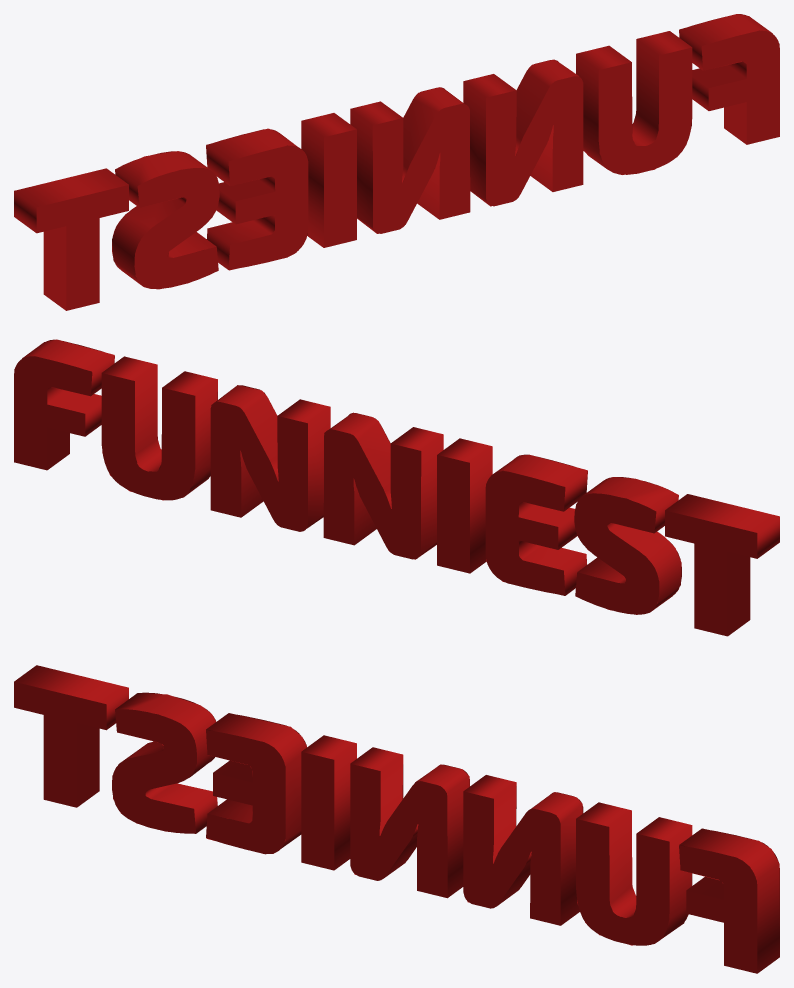
The model's file is funniest.fbx.
3 views of the same model, one above another, from view 1: azimuth 30°, elevation 25°; view 2: azimuth 150°, elevation 25°; view 3: azimuth 330°, elevation 25° (orthographic).
Parts seen in each view (by area): view 1: Text; view 2: Text; view 3: Text.
Boxes of the visible parts, bbox=[...] form: Text: bbox=[14, 14, 779, 310]; Text: bbox=[14, 339, 779, 636]; Text: bbox=[14, 665, 779, 973].
Bounding box in the file's own units: 15.18 × 2.26 × 0.8.
